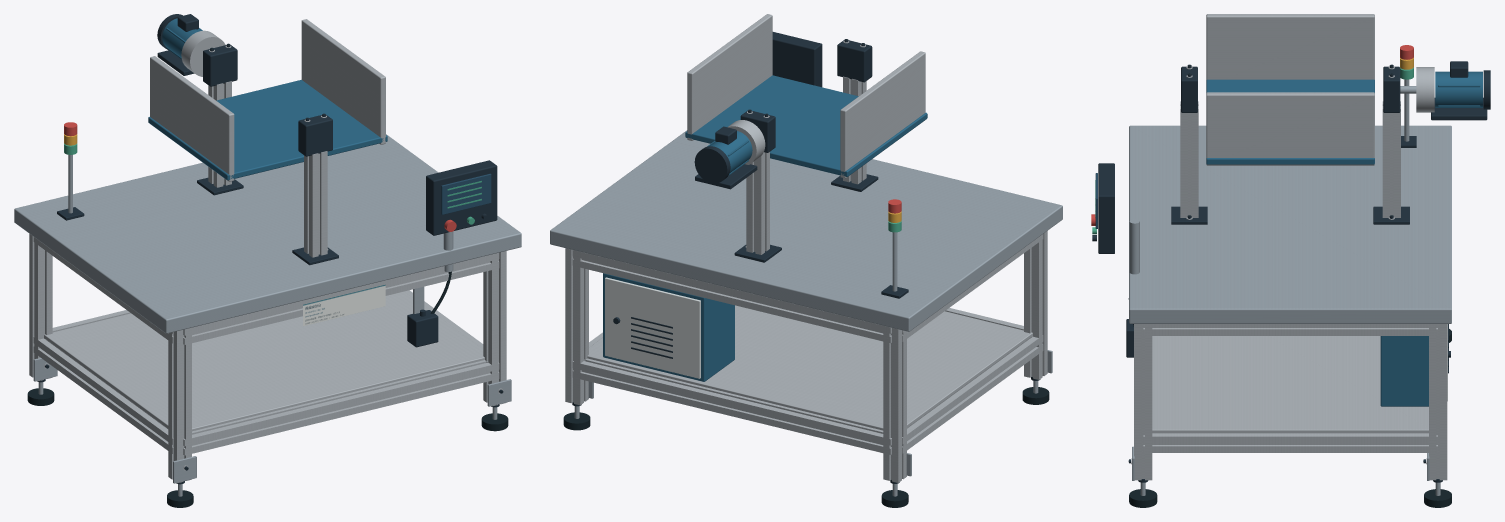
File: weld-positioner-cell.glb
3 views of the same model, side by side, from view 1: azimuth 30°, elevation 25°; view 2: azimuth 150°, elevation 25°; view 3: azimuth 270°, elevation 25° (orthographic). The views are drawn at different scales.
Parts seen in each view (by area): view 1: ClosedMachineBed_40, LowerShelf_41, TiltingCradle_95, SlottedExtrusion_34, CradleSide_96, CradleSide_97, SlottedExtrusion_35, SlottedExtrusion_11, SlottedExtrusion_36, SlottedExtrusion_27, ConsoleBack_52, SlottedExtrusion_3 (+10 smaller); view 2: ClosedMachineBed_40, LowerShelf_41, TiltingCradle_95, BackDoor_43, SlottedExtrusion_32, CradleSide_96, CradleSide_97, SlottedExtrusion_33, SlottedExtrusion_3, SlottedExtrusion_19, Cabinet_42, SlottedExtrusion_36 (+10 smaller); view 3: ClosedMachineBed_40, LowerShelf_41, CradleSide_97, CradleSide_96, SlottedExtrusion_38, TiltingCradle_95, SlottedExtrusion_39, Cabinet_42, SlottedExtrusion_27, SlottedExtrusion_19, SlottedExtrusion_71, SlottedExtrusion_83 (+11 smaller).
Boxes of the visible parts, bbox=[...] form: ClosedMachineBed_40: bbox=[14, 134, 521, 333]; LowerShelf_41: bbox=[44, 291, 484, 431]; TiltingCradle_95: bbox=[148, 80, 387, 180]; SlottedExtrusion_34: bbox=[183, 360, 499, 455]; CradleSide_96: bbox=[150, 56, 234, 181]; CradleSide_97: bbox=[301, 19, 385, 144]; SlottedExtrusion_35: bbox=[183, 253, 499, 344]; SlottedExtrusion_11: bbox=[168, 327, 191, 483]; SlottedExtrusion_36: bbox=[33, 337, 173, 454]; SlottedExtrusion_27: bbox=[483, 251, 506, 406]; ConsoleBack_52: bbox=[426, 160, 497, 235]; SlottedExtrusion_3: bbox=[29, 234, 52, 381]; ClosedMachineBed_40: bbox=[550, 130, 1062, 331]; LowerShelf_41: bbox=[587, 305, 1032, 430]; TiltingCradle_95: bbox=[685, 75, 927, 176]; BackDoor_43: bbox=[605, 277, 700, 378]; SlottedExtrusion_32: bbox=[572, 358, 891, 454]; CradleSide_96: bbox=[840, 51, 925, 178]; CradleSide_97: bbox=[687, 14, 772, 140]; SlottedExtrusion_33: bbox=[572, 250, 891, 343]; SlottedExtrusion_3: bbox=[883, 326, 906, 482]; SlottedExtrusion_19: bbox=[565, 248, 588, 405]; Cabinet_42: bbox=[603, 273, 734, 381]; SlottedExtrusion_36: bbox=[902, 335, 1043, 453]; ClosedMachineBed_40: bbox=[1129, 125, 1451, 323]; LowerShelf_41: bbox=[1152, 336, 1428, 433]; CradleSide_97: bbox=[1206, 92, 1374, 165]; CradleSide_96: bbox=[1206, 14, 1374, 79]; SlottedExtrusion_38: bbox=[1143, 433, 1437, 452]; TiltingCradle_95: bbox=[1206, 79, 1374, 164]; SlottedExtrusion_39: bbox=[1143, 324, 1437, 335]; Cabinet_42: bbox=[1380, 336, 1428, 406]; SlottedExtrusion_27: bbox=[1134, 324, 1152, 480]; SlottedExtrusion_19: bbox=[1429, 324, 1447, 480]; SlottedExtrusion_71: bbox=[1382, 101, 1400, 217]; SlottedExtrusion_83: bbox=[1180, 101, 1198, 217].
Bounding box in the file's own units: 1.55 × 1.44 × 1.42.
11 materials, 3 textured.
